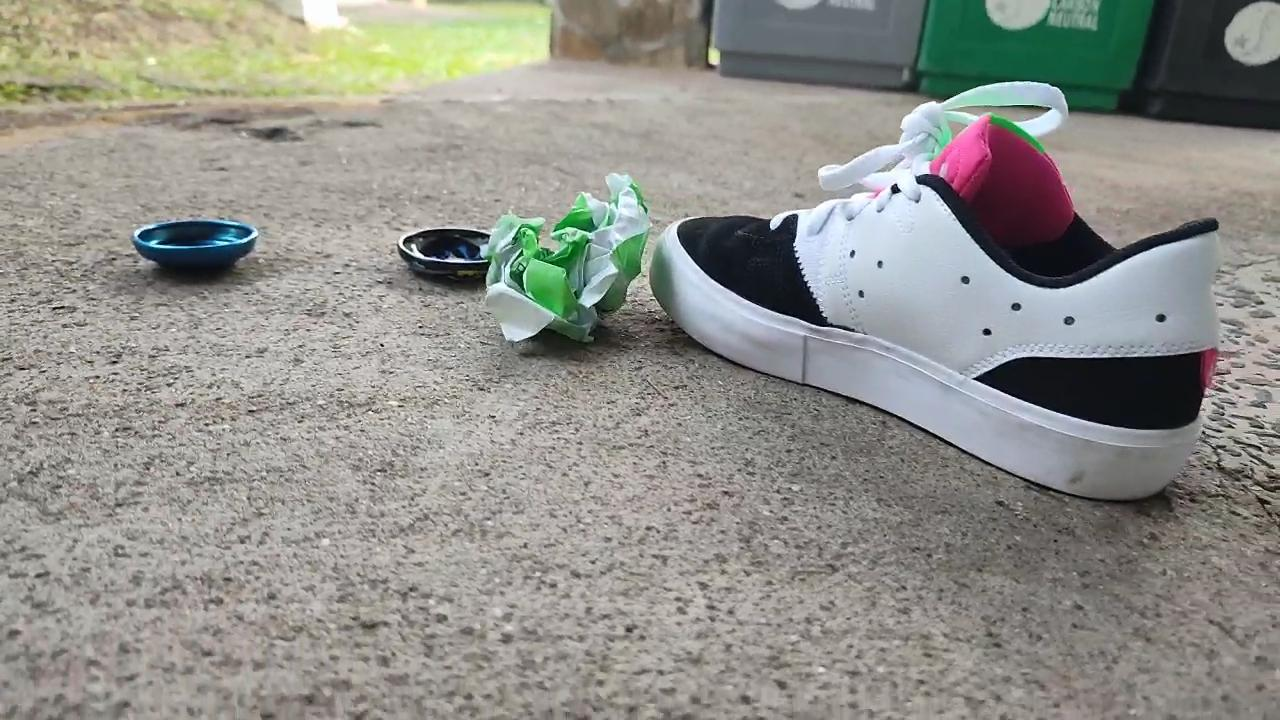Paper: (474, 128, 653, 364)
